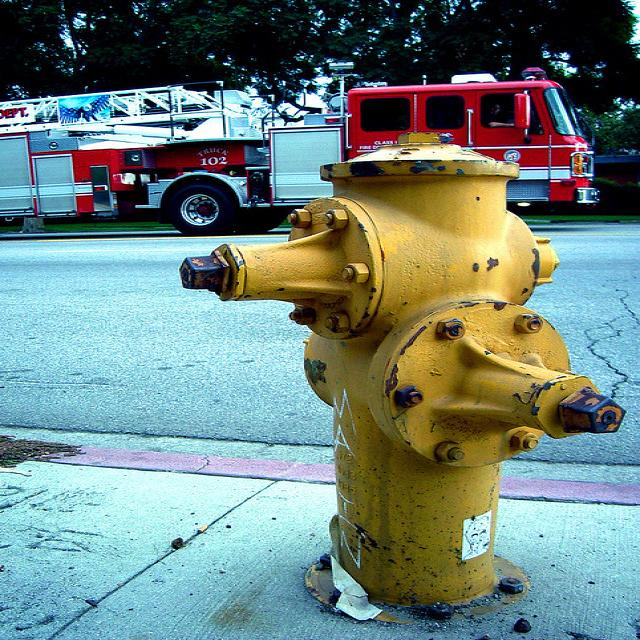Vehicle: (8, 73, 593, 228)
